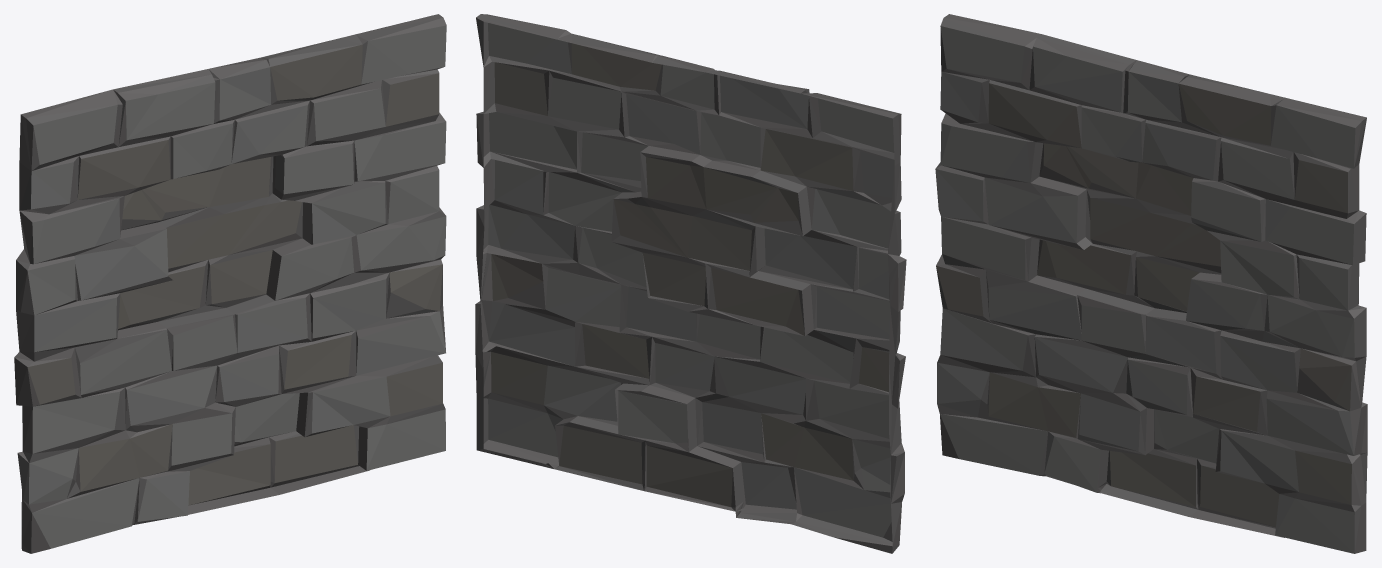
The model's file is SM_Env_Wall_Culled_03.FBX.
The picture shows the model from 3 angles, left to right: view 1: azimuth 30°, elevation 25°; view 2: azimuth 150°, elevation 25°; view 3: azimuth 330°, elevation 25°; orthographic projection.
Visible parts, largest first — view 1: SM_Env_Wall_Culled_03; view 2: SM_Env_Wall_Culled_03; view 3: SM_Env_Wall_Culled_03.
Boxes of the visible parts, <box> form: SM_Env_Wall_Culled_03: <box>14,14,446,553</box>; SM_Env_Wall_Culled_03: <box>475,14,906,553</box>; SM_Env_Wall_Culled_03: <box>935,14,1367,553</box>.
Size of what is drawn, in the model's own units: 518 by 24.9 by 513.
